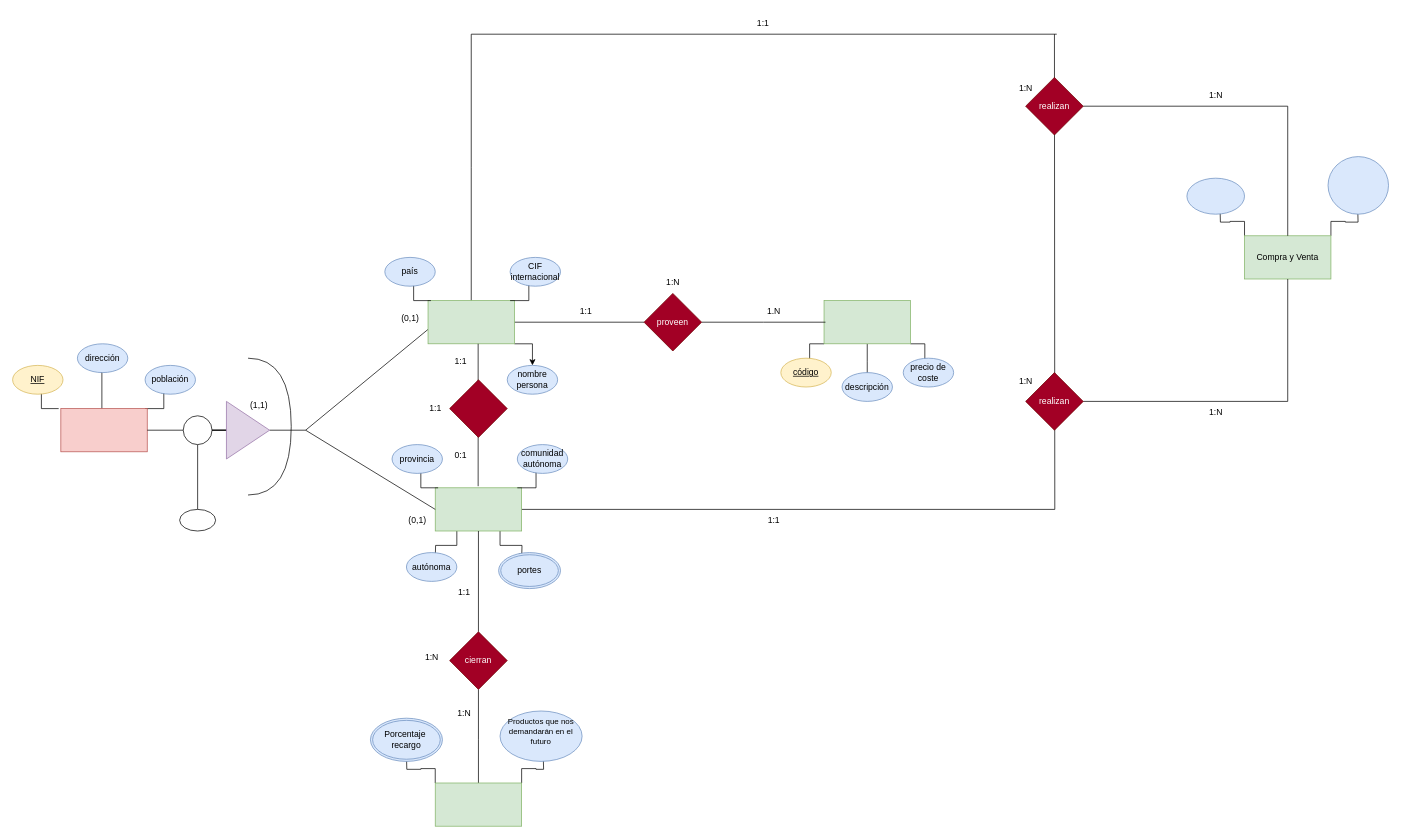
Image size: 1401x839. Some labels were removed from this diagram. Here are the shapes that lost their labels. From the top down, the centre of each, then its label:
At point 1215,195: "fecha".
At point 1358,185: "cantida de producto comprados vendidos".
At point 470,322: "Empresas proveedoras".
At point 866,322: "Producto".
At point 478,408: "suministran a".
At point 103,430: "EMPRESAS".
At point 197,520: "tipo".
At point 478,509: "Empresas cliente".
At point 478,804: "Acuerdo".
